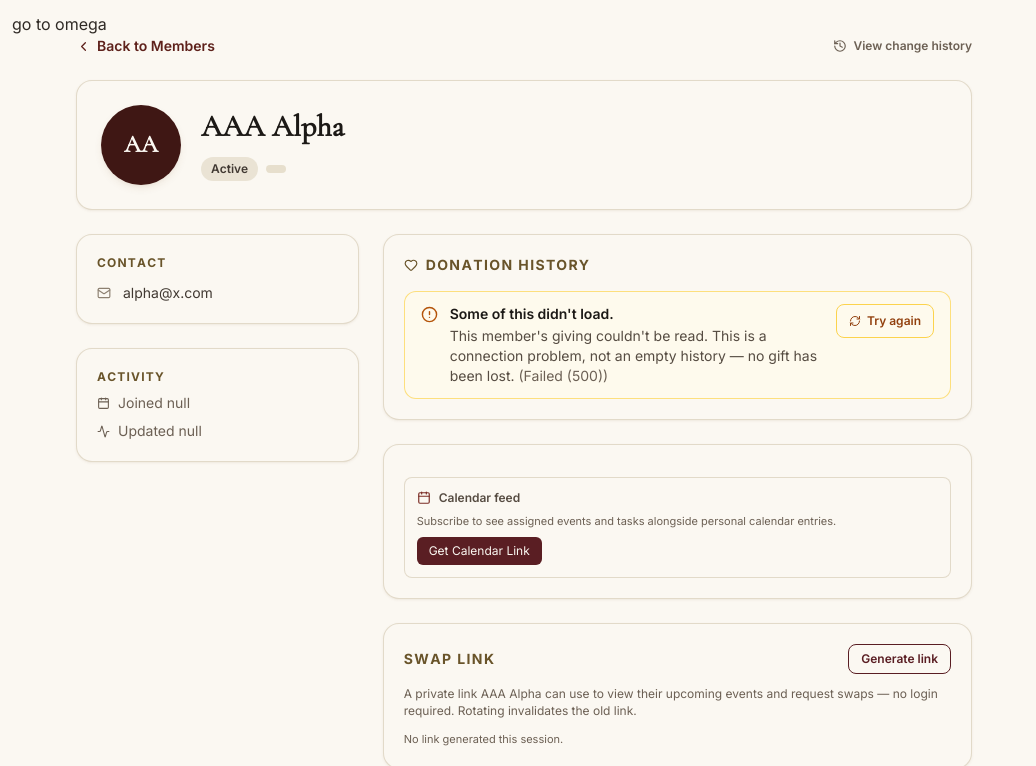
Scenario: a retry that resolves after the member changed › files Alpha's gifts nowhere, and Omega keeps Omega's
Check: the heading "AAA Alpha" is shown, box [201,108,344,145]
Step 1. Click the button "Try again" → x=885, y=321, box [836,304,934,338]
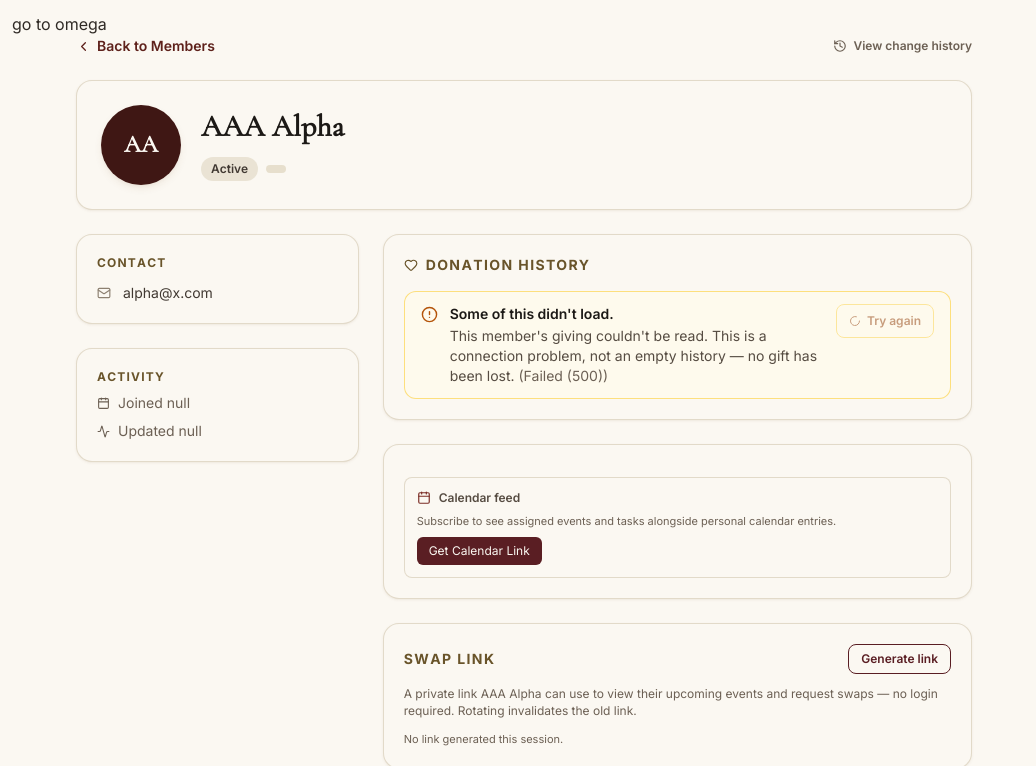
# Move on to Omega while Alpha's retry is still in flight.
Step 2. Click the link "go to omega" → x=59, y=24, box [12,14,107,34]
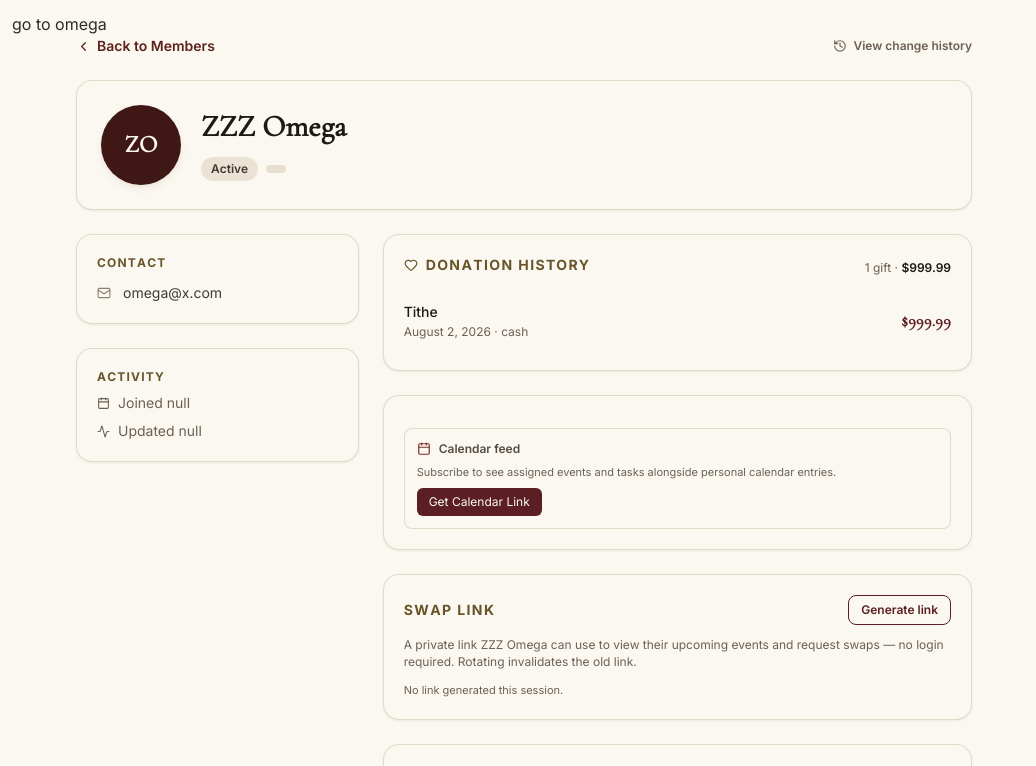
Check: the heading "ZZZ Omega" is shown, box [201,108,347,145]
Check: the text "$999.99" next to "gift" is shown, box [902,260,951,275]
